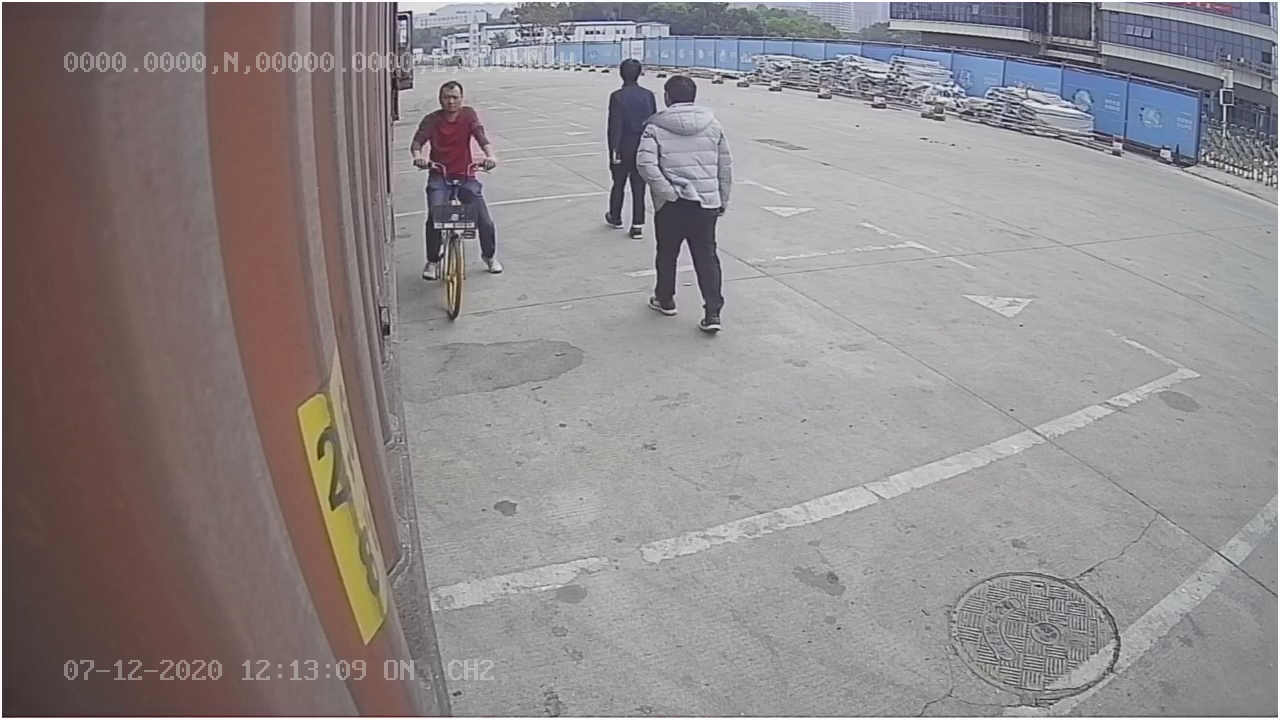person: (637, 75, 735, 336)
